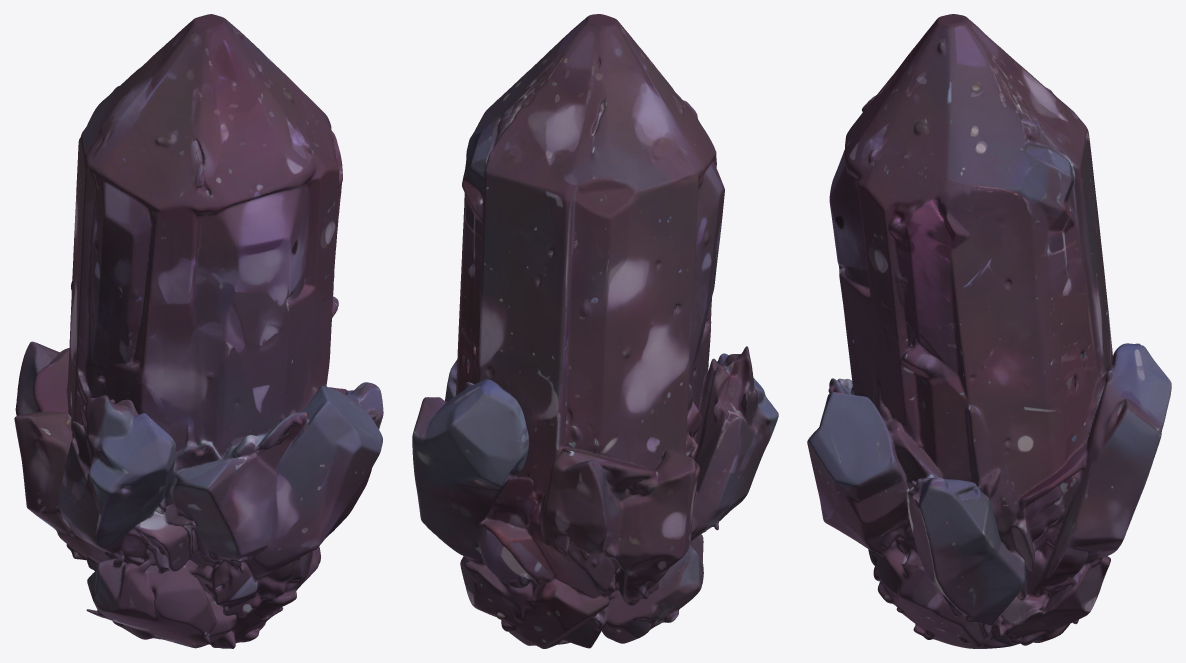
Rendered from void_crystal_shard.glb.
The picture shows the model from 3 angles, left to right: view 1: azimuth 30°, elevation 25°; view 2: azimuth 150°, elevation 25°; view 3: azimuth 270°, elevation 25°; orthographic projection. The views are drawn at different scales.
Visible parts, largest first — view 1: tripo_node_983f3466-7876-4fa2-ab04-e7506837c240; view 2: tripo_node_983f3466-7876-4fa2-ab04-e7506837c240; view 3: tripo_node_983f3466-7876-4fa2-ab04-e7506837c240.
Part boxes in pixels (x1,y1,x2,y2): tripo_node_983f3466-7876-4fa2-ab04-e7506837c240: (14,14,383,648); tripo_node_983f3466-7876-4fa2-ab04-e7506837c240: (412,14,778,648); tripo_node_983f3466-7876-4fa2-ab04-e7506837c240: (807,14,1171,648).
Size of the model in its own units: 0.511 by 1 by 0.5332.
Materials: 1 (1 with a texture image).
